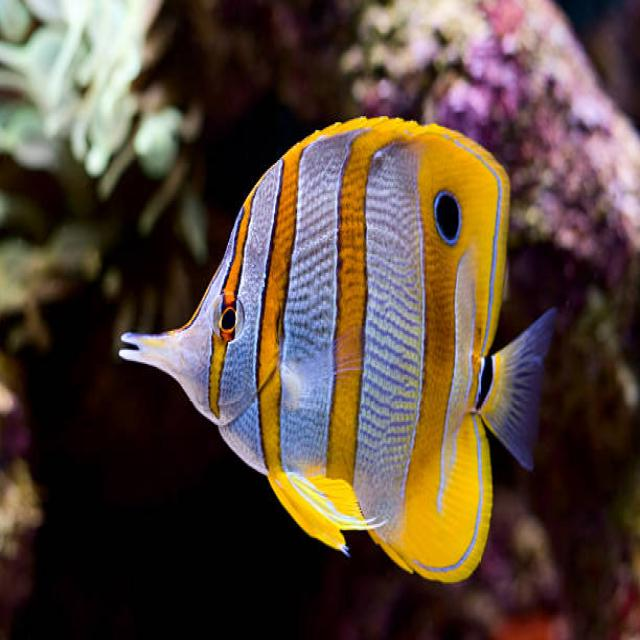ButterflyFish: (121, 117, 554, 582)
